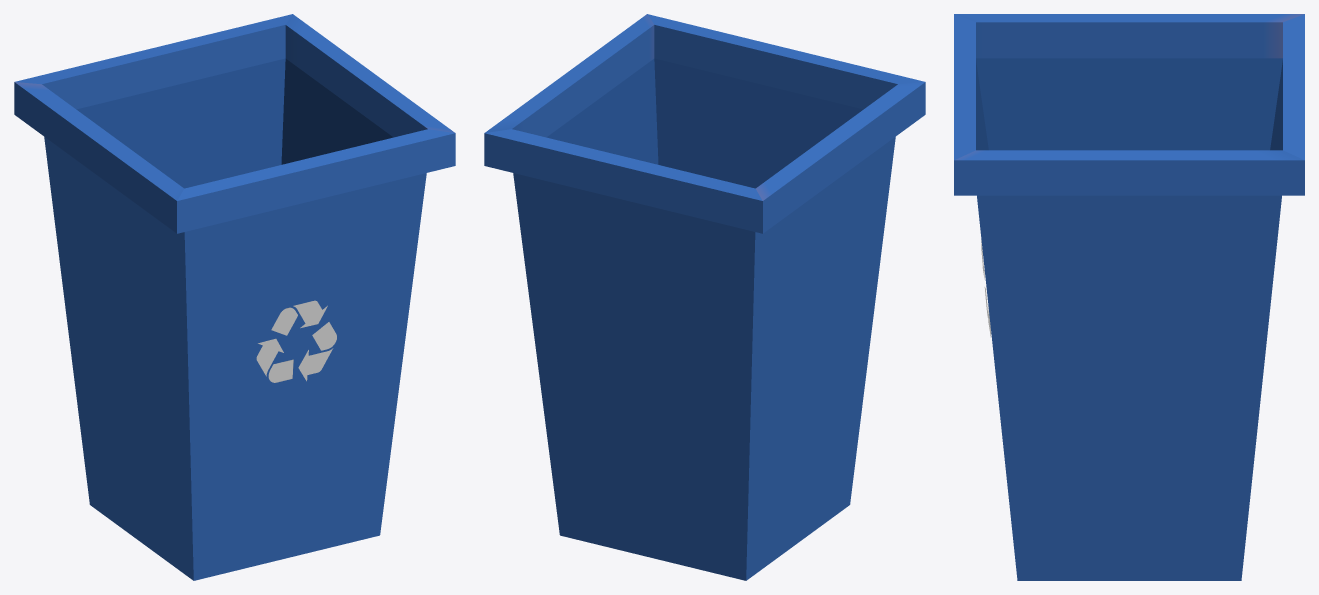
Rendered from M_SortingCan.fbx.
The picture shows the model from 3 angles, left to right: view 1: azimuth 30°, elevation 25°; view 2: azimuth 150°, elevation 25°; view 3: azimuth 270°, elevation 25°; orthographic projection. The views are drawn at different scales.
Parts seen in each view (by area): view 1: Cube, Plane; view 2: Cube; view 3: Cube.
Part boxes in pixels (x1,y1,x2,y2): Cube: (14,14,455,580); Plane: (256,300,336,382); Cube: (484,14,925,580); Cube: (954,14,1304,580).
Bounding box in the file's own units: 398 × 565 × 403.
